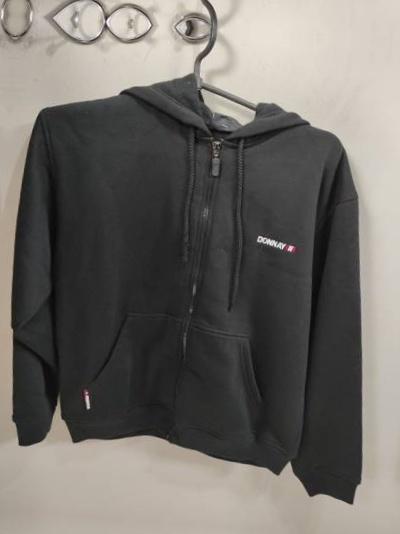Hoodie: (0, 59, 400, 527), (388, 89, 400, 534), (0, 522, 375, 534), (0, 29, 2, 496), (30, 0, 400, 1)
